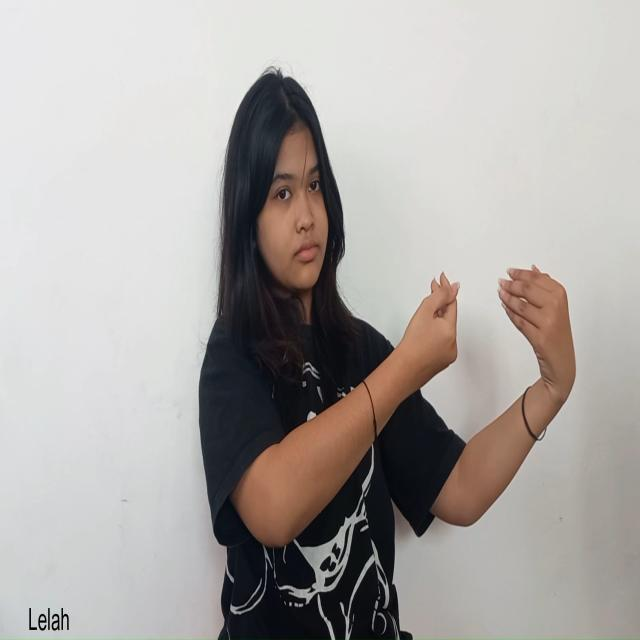Lelah -BISINDO-: (399, 262, 578, 412)
